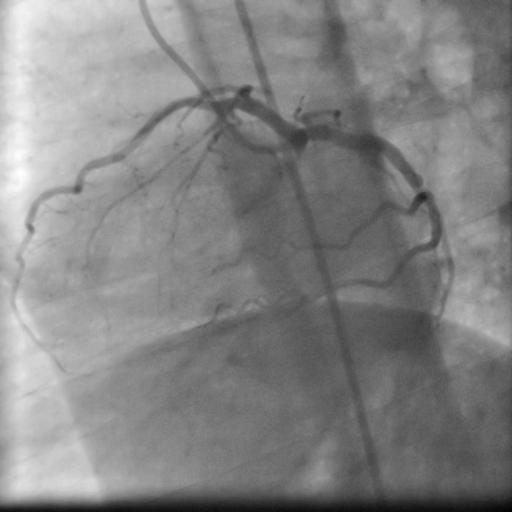Stenosis: (411, 180, 429, 192)
